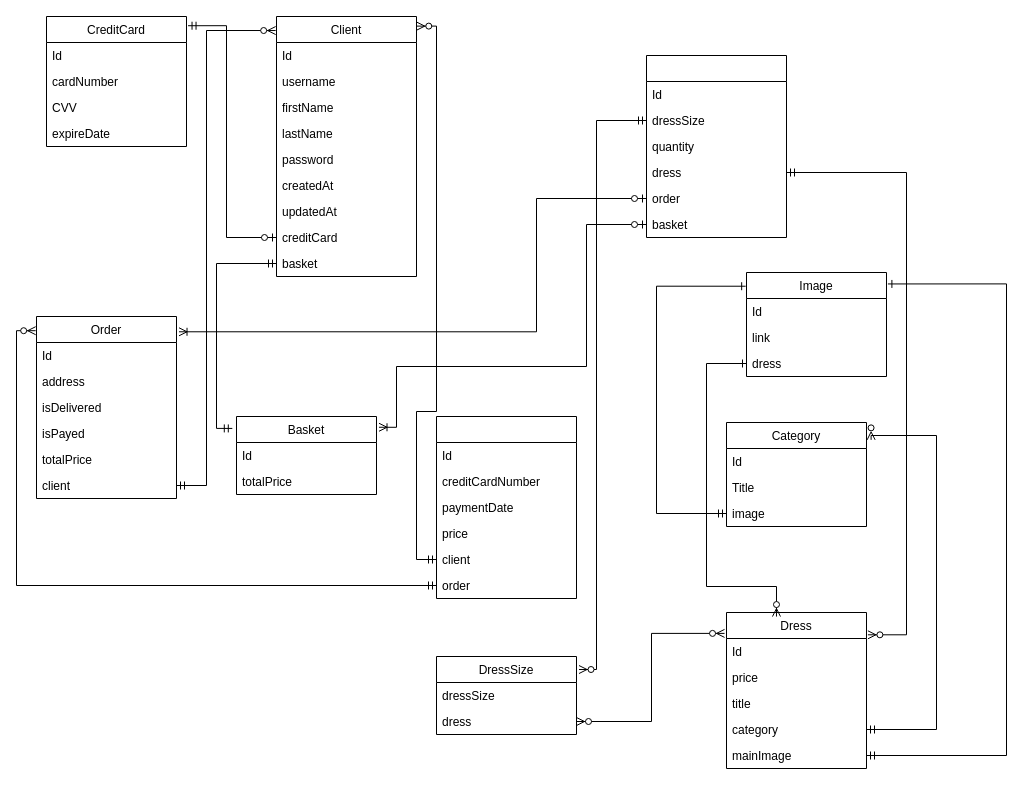
Some shapes in this 1023 by 785 pixel diagram are drawn without their labels. The shapes that lost their labels are listed below. From the top down, each one's box as (x1, y1, x2, y2) in pixels, then its label:
(646, 54, 786, 238): OrderedDress
(436, 416, 576, 598): PaymentDetails
